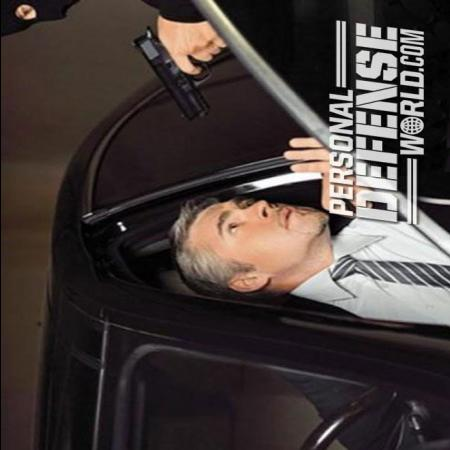Pistol: (124, 20, 220, 122)
